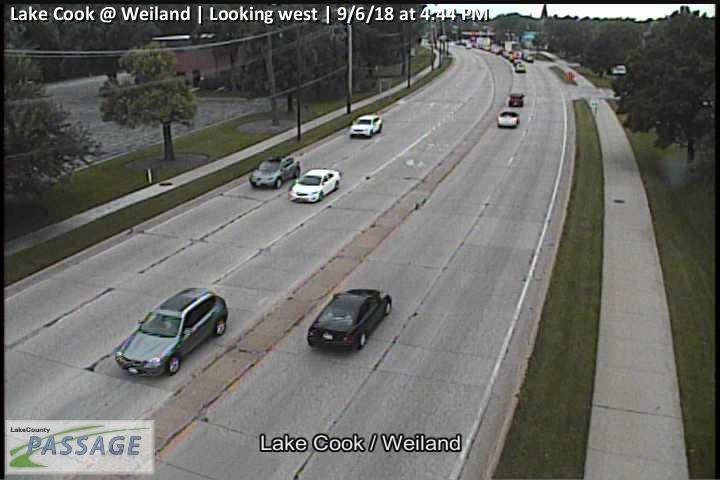SUV: (113, 286, 228, 377), (249, 155, 301, 187), (350, 113, 383, 139), (497, 110, 519, 128), (509, 93, 524, 106)
Sedan: (306, 288, 392, 351), (287, 168, 341, 204)
